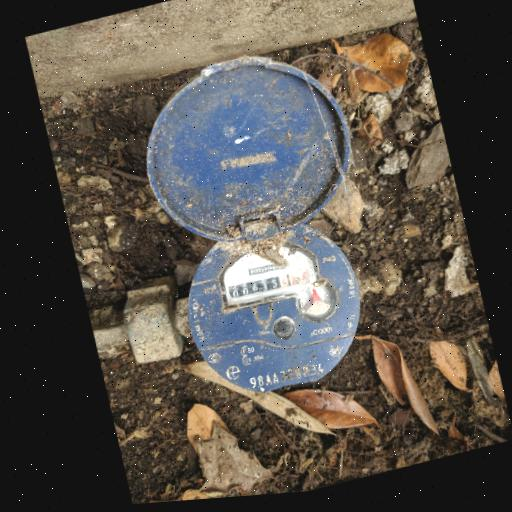0: (238, 281, 249, 296), (229, 283, 239, 297)
2: (287, 271, 299, 284)
3: (259, 277, 270, 292)
4: (278, 273, 289, 287)
5: (268, 275, 279, 290)
6: (249, 278, 260, 293)
border_water_meter_number: (224, 260, 317, 304)
